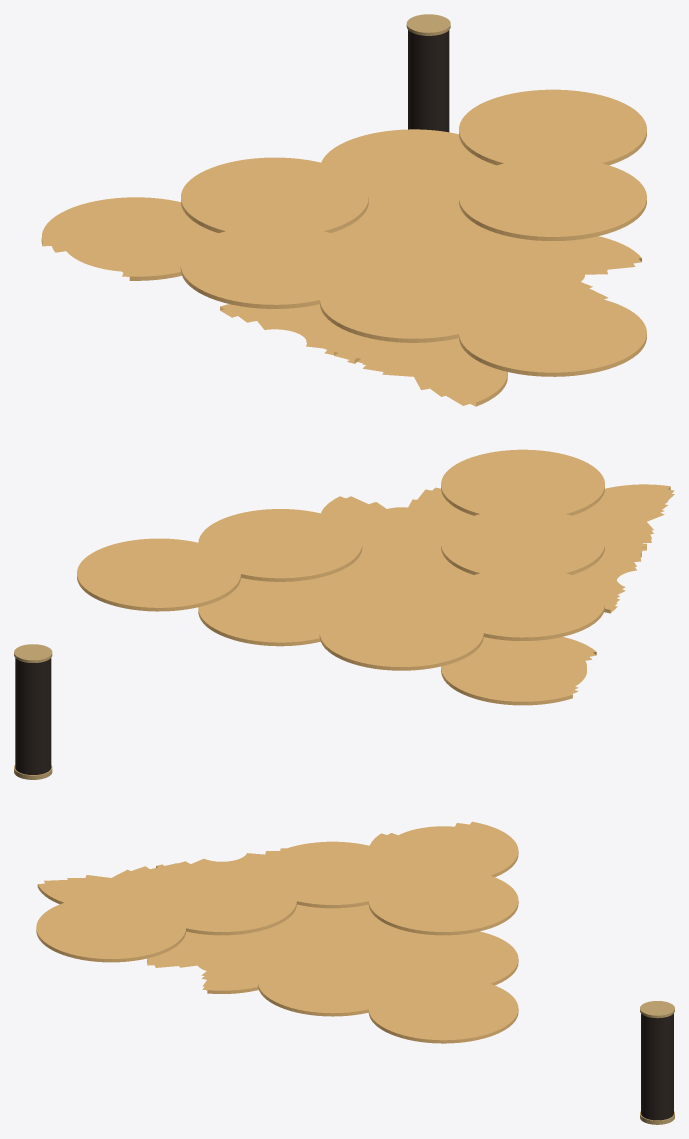
File: cf_cote.glb
The picture shows the model from 3 angles, top to bottom: view 1: azimuth 30°, elevation 25°; view 2: azimuth 150°, elevation 25°; view 3: azimuth 270°, elevation 25°; orthographic projection. The views are drawn at different scales.
Visible parts, largest first — view 1: n09962, n09960; view 2: n09962, n09960; view 3: n09962, n09960.
Part boxes in pixels (bbox=[...]): n09962: bbox=[41, 89, 646, 406]; n09960: bbox=[406, 14, 450, 132]; n09962: bbox=[77, 449, 674, 705]; n09960: bbox=[14, 644, 52, 779]; n09962: bbox=[36, 821, 518, 1043]; n09960: bbox=[640, 1001, 674, 1124].
Bounding box in the file's own units: 15.37 × 3.3 × 18.08.
